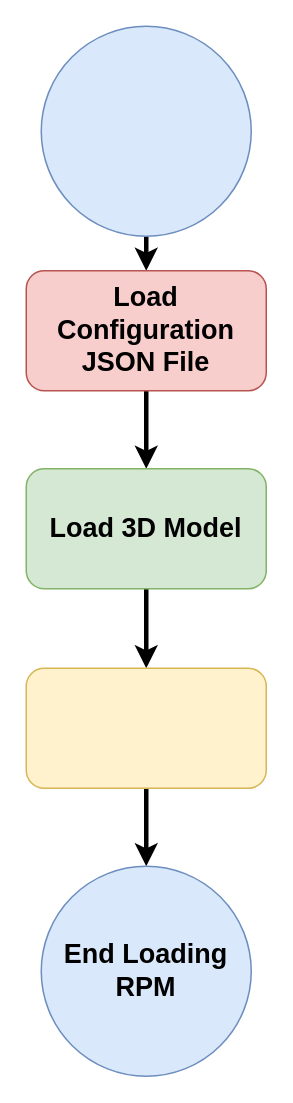
This 293x1103 diagram has some shape labels left out. The shapes that lost their labels are listed below. From the top down, each one's centre as x and y in pixels, then its label:
(x=145, y=130): Start Loading RPM
(x=145, y=727): Load Animations
